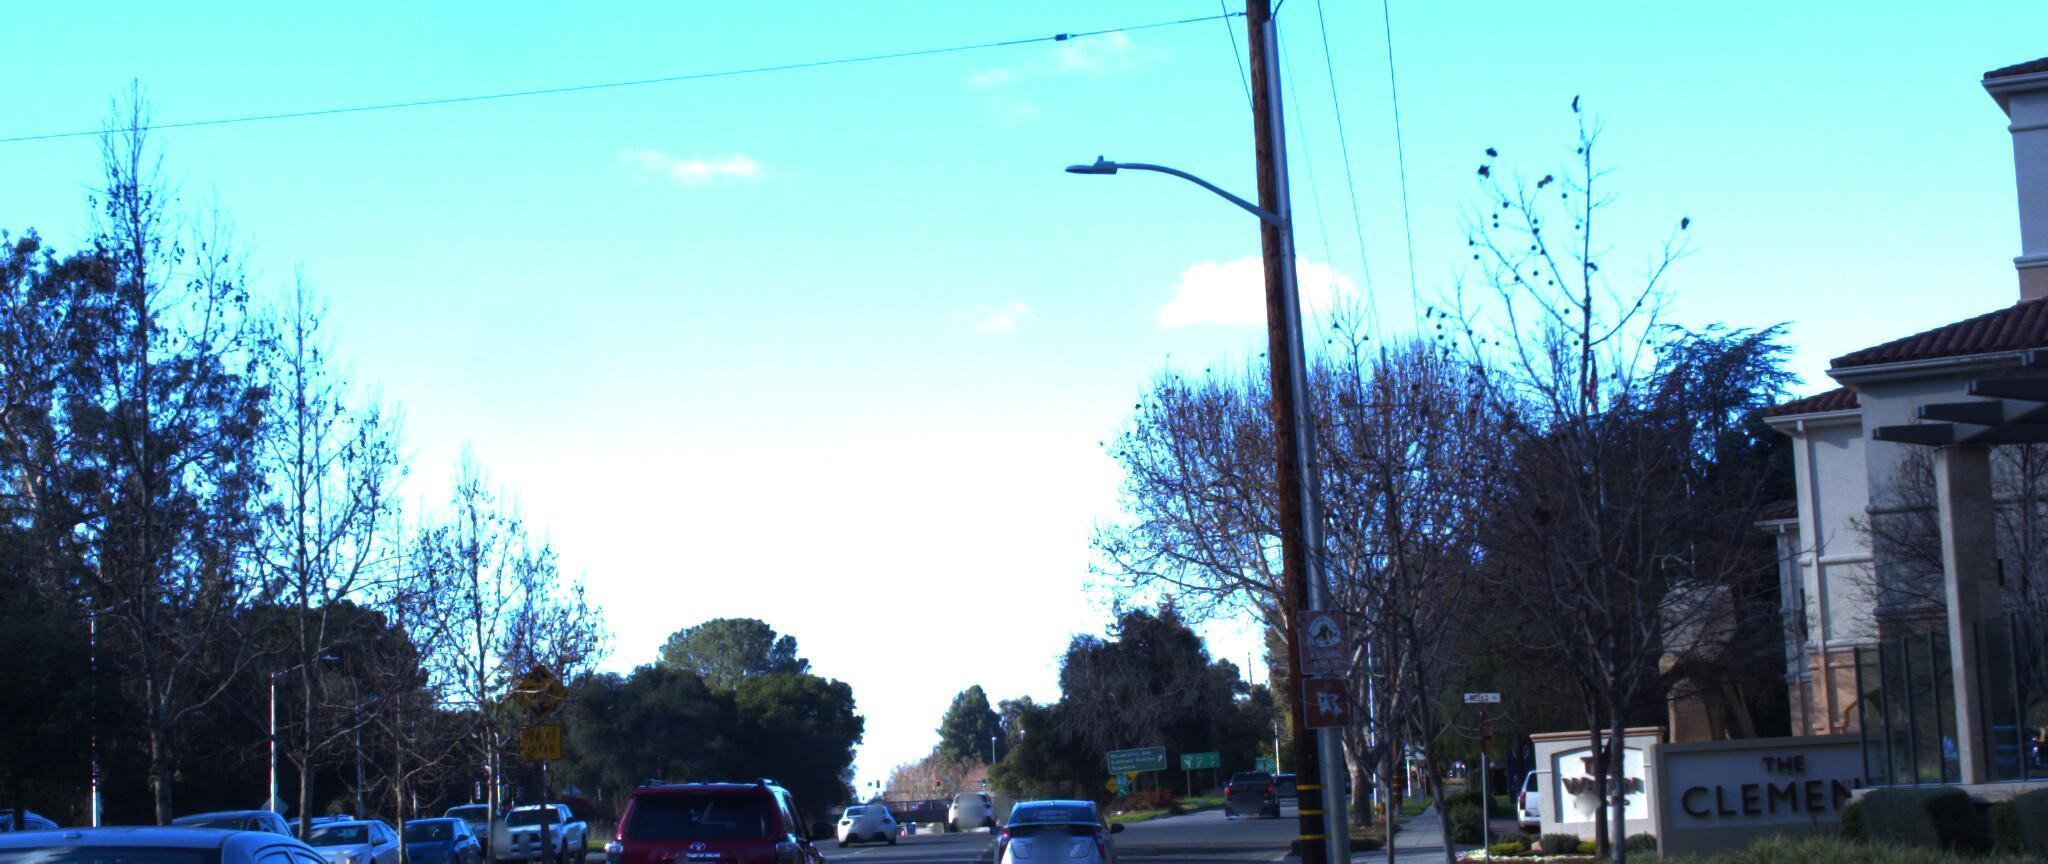car: (0, 774, 490, 864), (583, 760, 842, 864), (978, 784, 1122, 864), (266, 800, 430, 864), (0, 788, 118, 864), (483, 780, 596, 857)
